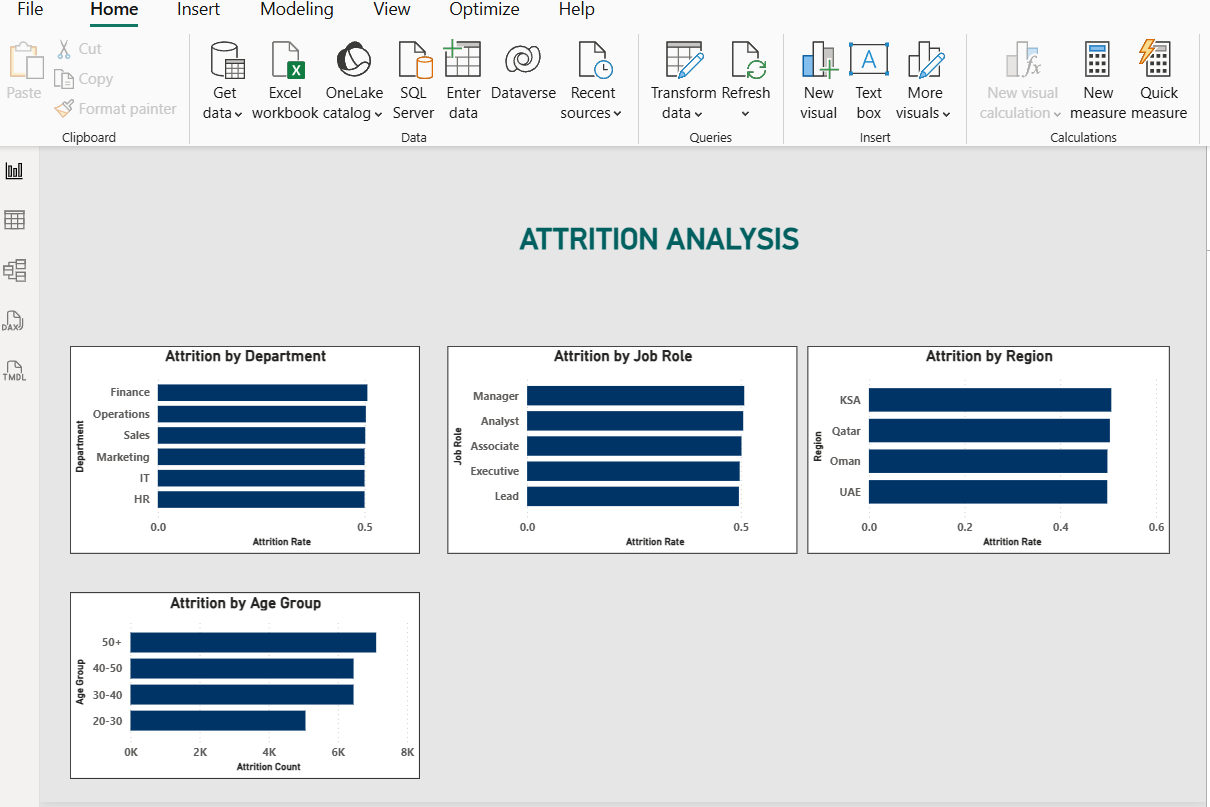

This screenshot's page, from the dashboard's own definition file:
{"tool":"powerbi","page":{"name":"Page 2","canvas":[1280,720],"ordinal":1},"visuals":[{"type":"barChart","title":"Attrition by Department","fields":{"Category":["HR_Data.Department"],"Y":["Measure.Attrition_rate"]},"box":[32.9,219.6,384.2,227.8],"z":0},{"type":"barChart","title":"Attrition by Job Role","fields":{"Category":["HR_Data.Job_Role"],"Y":["Measure.Attrition_rate"]},"box":[447.3,219.6,384.2,227.8],"z":1000},{"type":"barChart","title":"Attrition by Region","fields":{"Category":["HR_Data.Region"],"Y":["Measure.Attrition_rate"]},"box":[842.5,219.6,397.9,227.8],"z":2000},{"type":"barChart","title":"Attrition by Age Group","fields":{"Category":["HR_Data.Age Group"],"Y":["Measure.Attrition_count"]},"box":[32.9,489.9,384.2,204.5],"z":3000},{"type":"textbox","title":"ATTRITION ANALYSIS","box":[489.9,82.3,380.1,94.7],"z":4000}]}

Visuals, with their boxes on the page's 1280x720 design canvas (x1, y1, x2, y2). These are canvas units, not pixel positions in the 1210x807 screenshot, which may show the page scaled, cropped or inside an application window:
"Attrition by Department" barChart: box(33, 220, 417, 447)
"Attrition by Job Role" barChart: box(447, 220, 832, 447)
"Attrition by Region" barChart: box(842, 220, 1240, 447)
"Attrition by Age Group" barChart: box(33, 490, 417, 694)
"ATTRITION ANALYSIS" textbox: box(490, 82, 870, 177)
